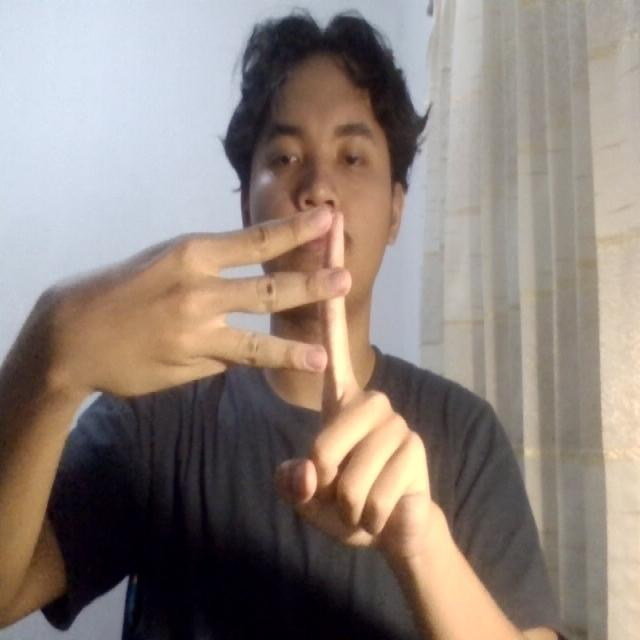B: (71, 183, 446, 569)
